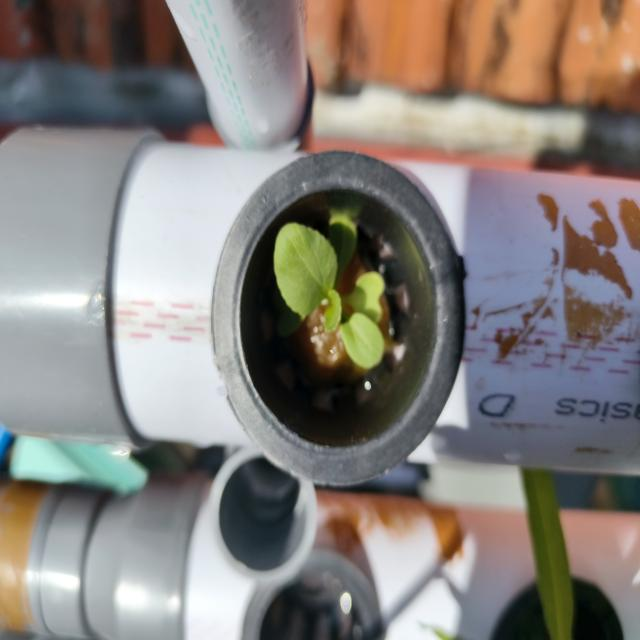daun-pakcoy: (274, 223, 337, 318), (348, 271, 390, 341), (341, 312, 384, 370), (329, 211, 357, 288), (322, 289, 343, 332)
